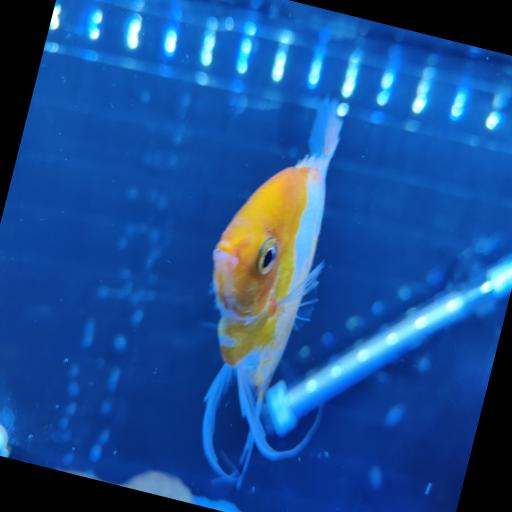Fish: (203, 99, 342, 487)
